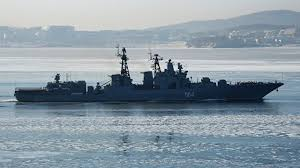tau_muctieu: (18, 46, 282, 110)
